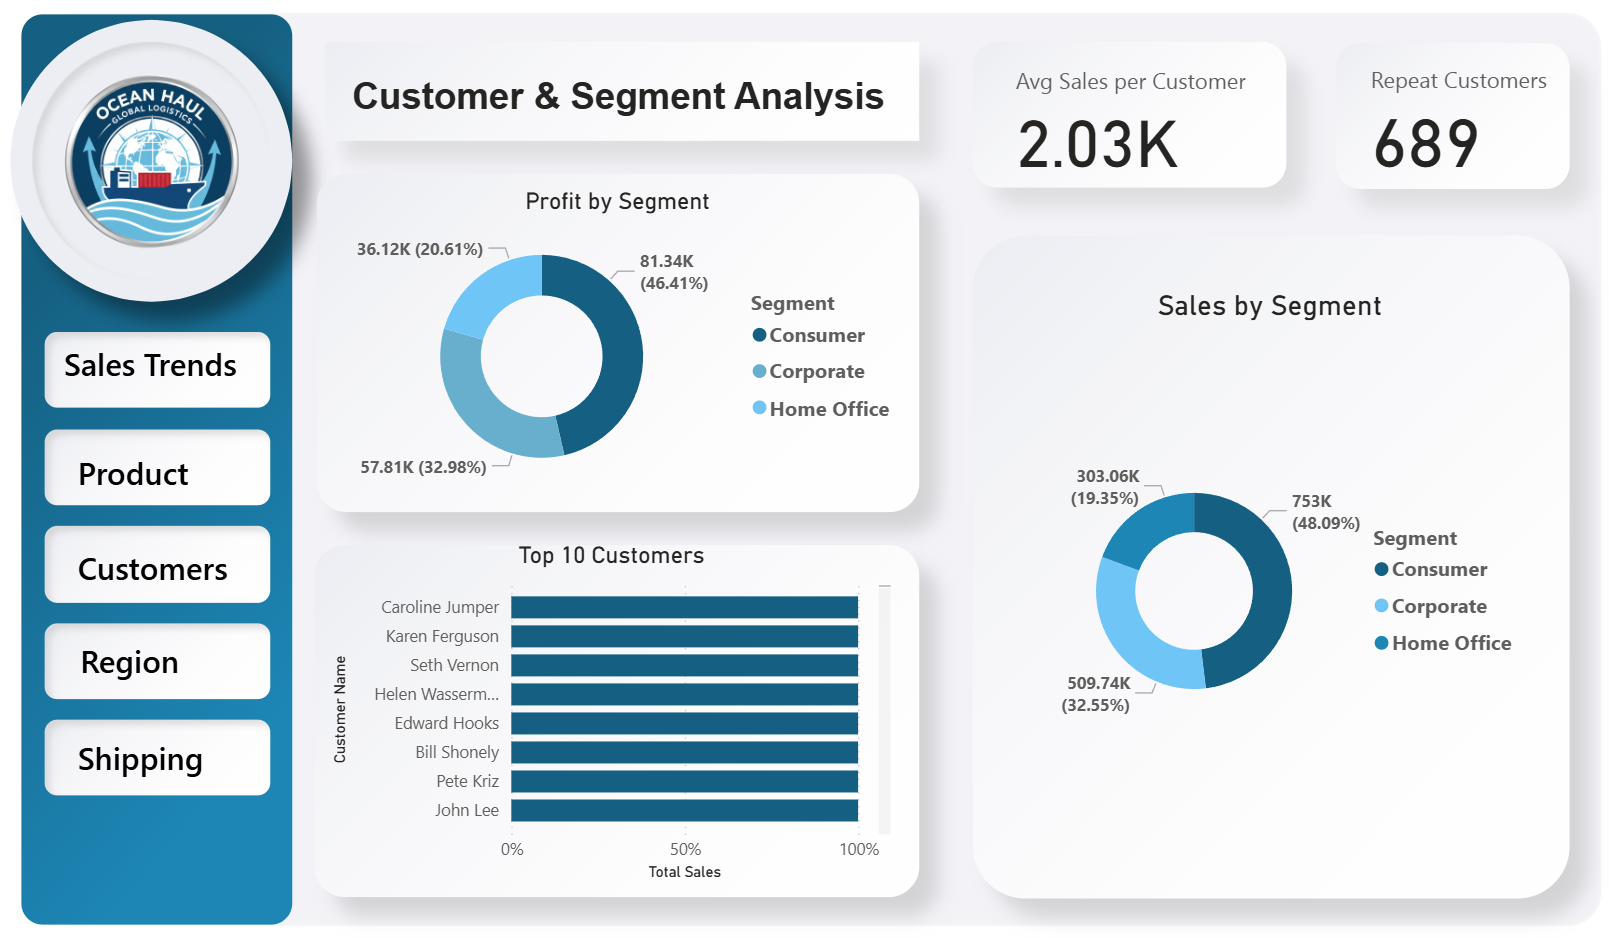

Layout of this report page (visuals, bound fields, positions):
{"tool":"powerbi","page":{"name":"Page 4","canvas":[1280,720],"ordinal":3},"visuals":[{"type":"textbox","box":[228.8,67.5,572.5,73.8],"z":7000},{"type":"donutChart","title":"Sales by Segment","fields":{"Y":["Sheet1.Total Sales"],"Category":["Sheet1.Segment"]},"box":[798.8,226.2,380,417.5],"z":8000},{"type":"donutChart","title":" Profit by Segment","fields":{"Category":["Sheet1.Segment"],"Y":["Sheet1.Total Profit"]},"box":[302.5,152.5,423.8,227.5],"z":9000},{"type":"hundredPercentStackedBarChart","title":"Top 10 Customers","fields":{"Category":["Sheet1.Customer Name"],"Y":["Sheet1.Total Sales"]},"box":[302.5,410,415,252.5],"z":10000},{"type":"cardVisual","fields":{"Data":["Sheet1.Avg Sales per Customer"]},"box":[787.5,42.5,223.8,125],"z":11000},{"type":"cardVisual","fields":{"Data":["Sheet1.Repeat Customers"]},"box":[1045,30,182.5,150],"z":12000},{"type":"actionButton","box":[111.2,261.2,146.2,40],"z":12001},{"type":"actionButton","box":[122.5,476.2,146.2,40],"z":12002},{"type":"actionButton","box":[121.2,408.8,147.5,40],"z":12003},{"type":"actionButton","box":[121.2,547.5,147.5,40],"z":12004},{"type":"actionButton","box":[121.2,338.8,147.5,41.2],"z":12005},{"type":"image","box":[82.5,42.5,186.2,183.8],"z":12006}]}

Visuals, with their boxes on the page's 1280x720 design canvas (x1, y1, x2, y2). These are canvas units, not pixel positions in the 1609x938 screenshot, which may show the page scaled, cropped or inside an application window:
textbox: [x1=229, y1=68, x2=801, y2=141]
"Sales by Segment" donutChart: [x1=799, y1=226, x2=1179, y2=644]
" Profit by Segment" donutChart: [x1=302, y1=152, x2=726, y2=380]
"Top 10 Customers" hundredPercentStackedBarChart: [x1=302, y1=410, x2=718, y2=662]
cardVisual - Sheet1.Avg Sales per Customer: [x1=788, y1=42, x2=1011, y2=168]
cardVisual - Sheet1.Repeat Customers: [x1=1045, y1=30, x2=1228, y2=180]
actionButton: [x1=111, y1=261, x2=257, y2=301]
actionButton: [x1=122, y1=476, x2=269, y2=516]
actionButton: [x1=121, y1=409, x2=269, y2=449]
actionButton: [x1=121, y1=548, x2=269, y2=588]
actionButton: [x1=121, y1=339, x2=269, y2=380]
image: [x1=82, y1=42, x2=269, y2=226]
